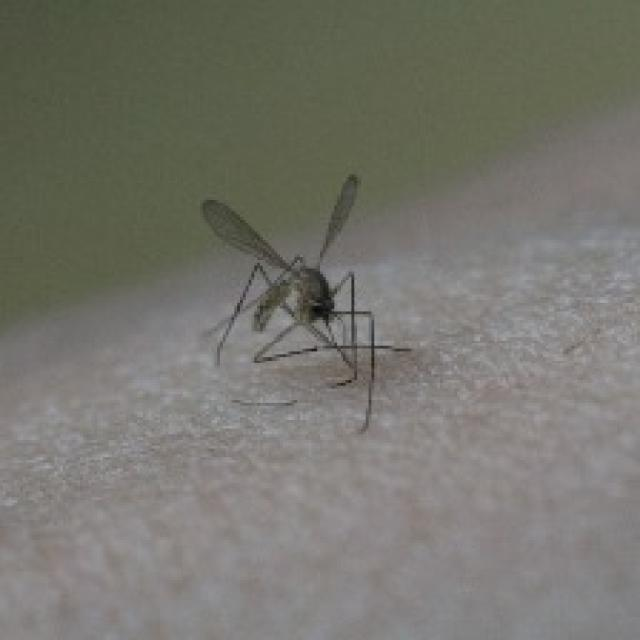culex: (197, 172, 412, 432)
